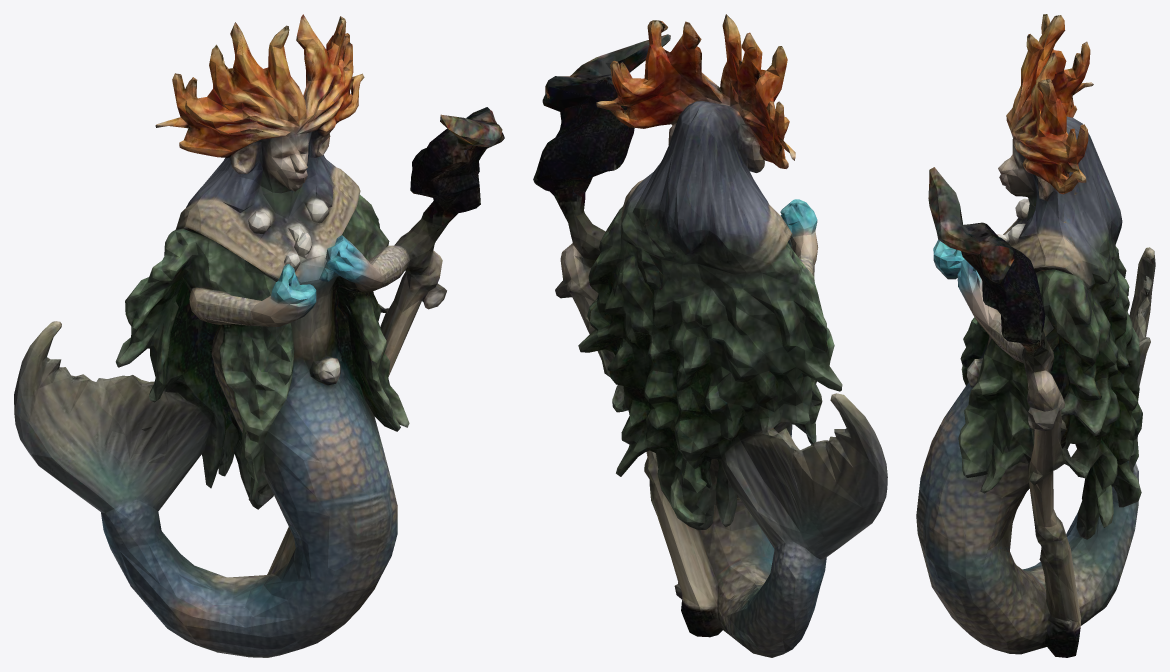
File: mermaidShaman.glb
3 views of the same model, side by side, from view 1: azimuth 30°, elevation 25°; view 2: azimuth 150°, elevation 25°; view 3: azimuth 270°, elevation 25° (orthographic).
Visible parts, largest first — view 1: world; view 2: world; view 3: world.
Part boxes in pixels (x1=…): world: x1=14, y1=14, x2=504, y2=657; world: x1=533, y1=14, x2=887, y2=657; world: x1=916, y1=14, x2=1155, y2=657.
Size of the model in its own units: 0.7067 by 0.9978 by 0.3476.
1 material, 1 textured.
